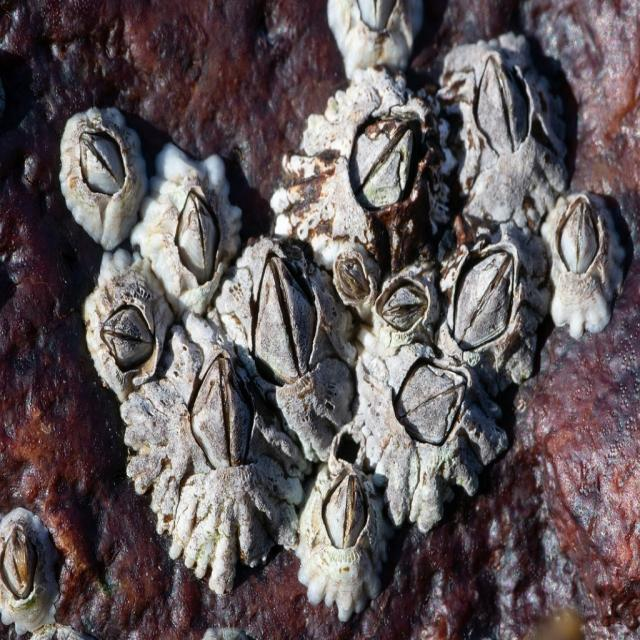barnacles: (118, 336, 300, 598), (290, 68, 448, 260), (359, 339, 502, 530), (228, 230, 356, 441), (442, 32, 569, 223), (433, 234, 544, 400), (148, 133, 239, 313), (296, 465, 400, 621), (52, 102, 136, 248), (544, 196, 630, 338), (81, 260, 169, 395), (0, 484, 59, 633), (365, 272, 436, 342), (328, 237, 371, 314)
